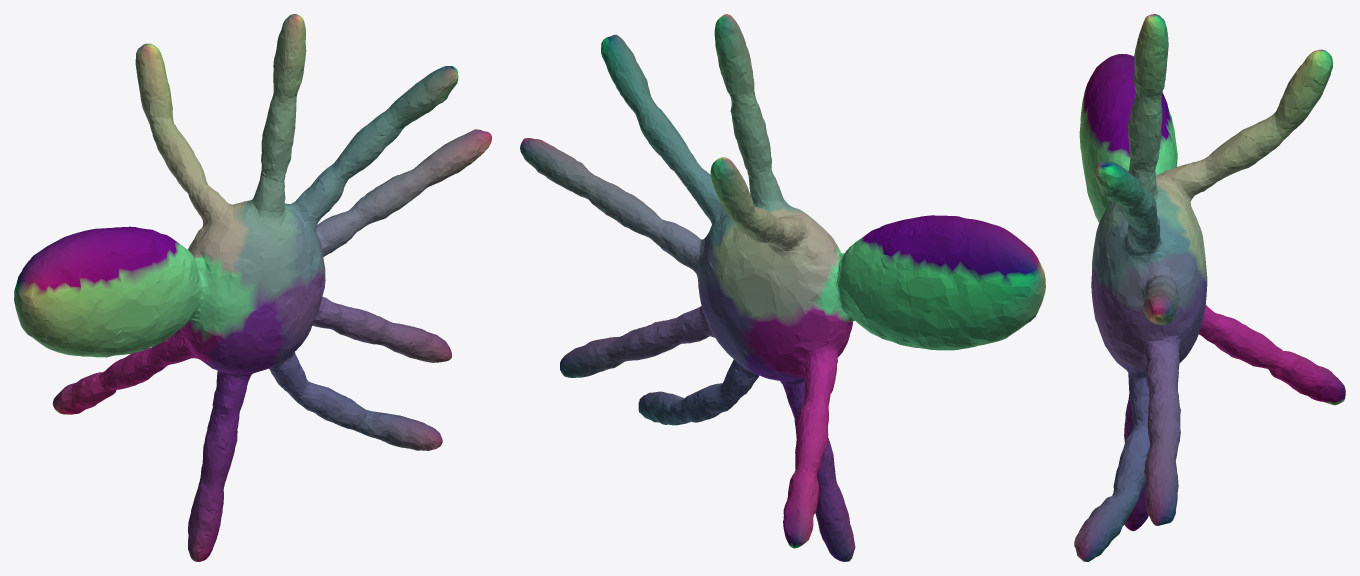
File: spider-7.off.obj
3 renders of one model, left to right at view 1: azimuth 30°, elevation 25°; view 2: azimuth 150°, elevation 25°; view 3: azimuth 270°, elevation 25°, orthographic. The views are drawn at different scales.
Size of the model in its own units: 1.65 by 1.65 by 0.7127.
